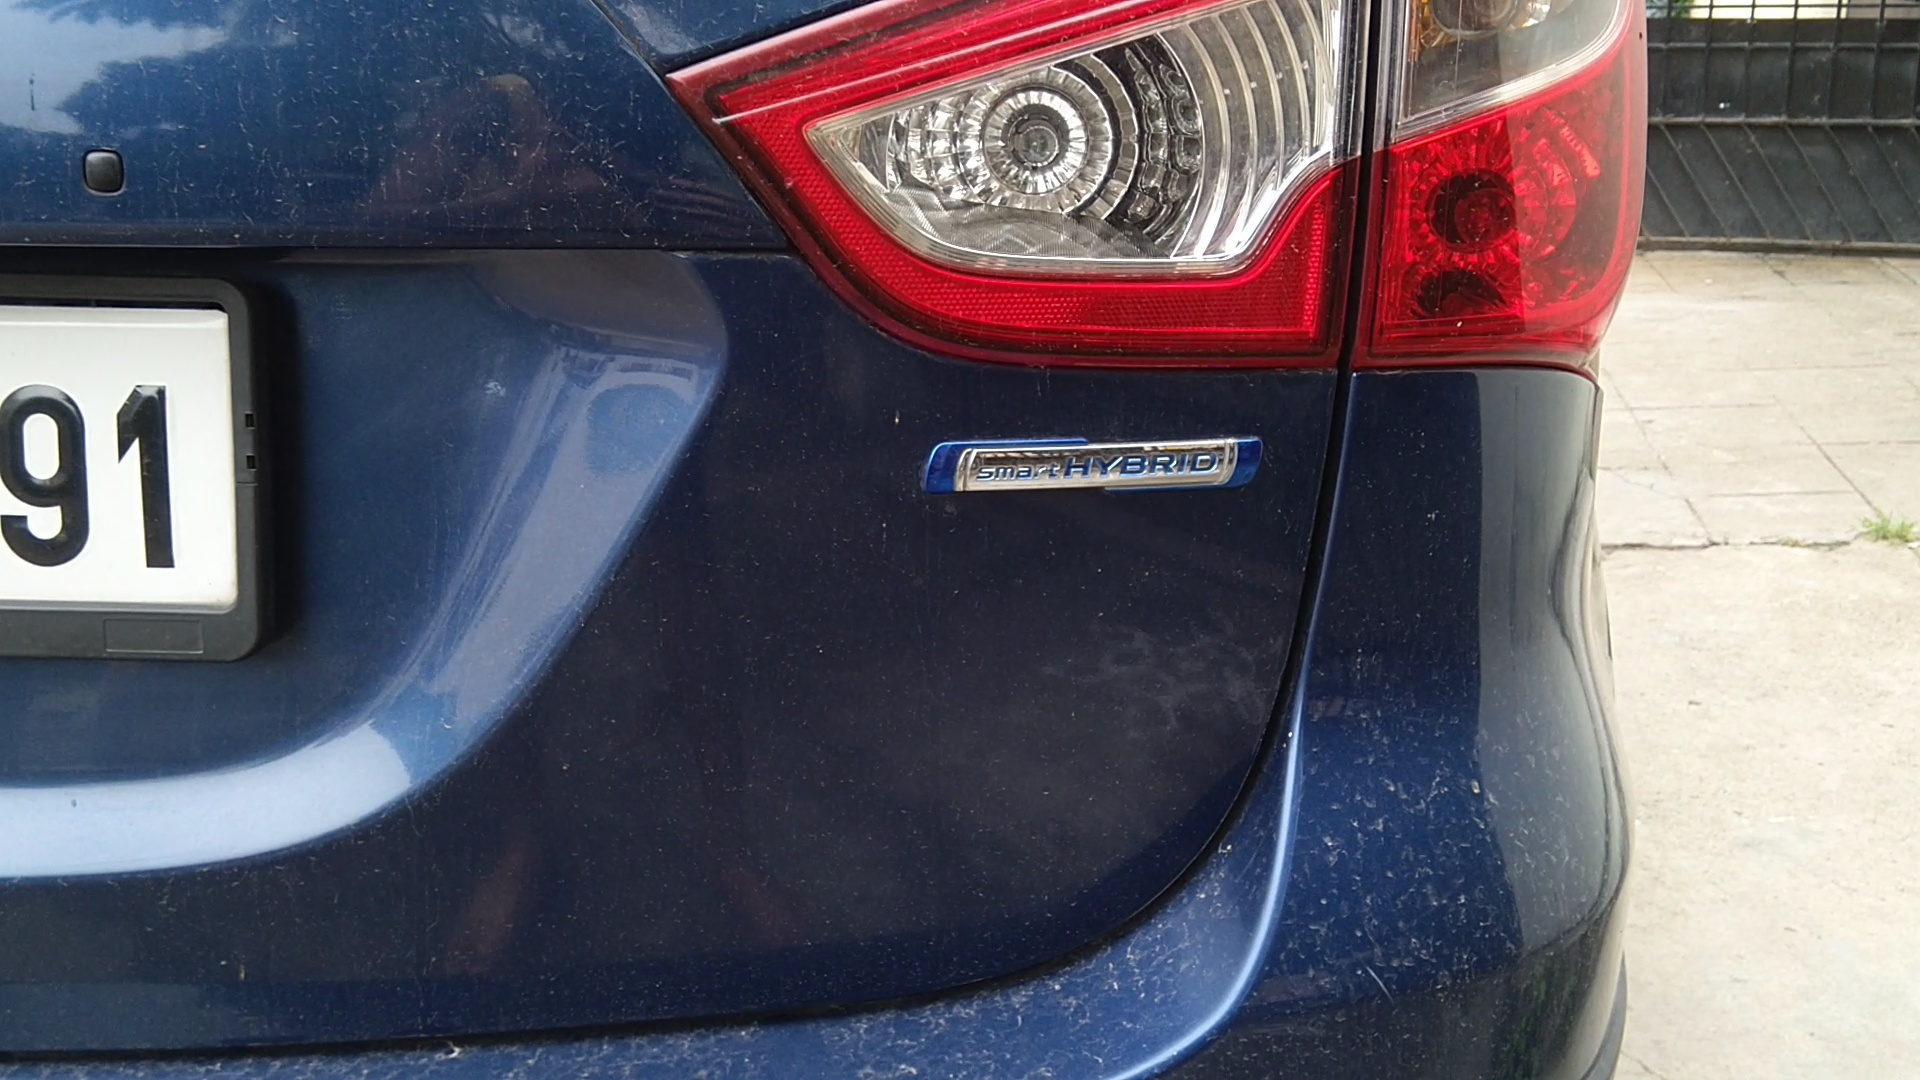shvs: (903, 400, 1282, 546)
